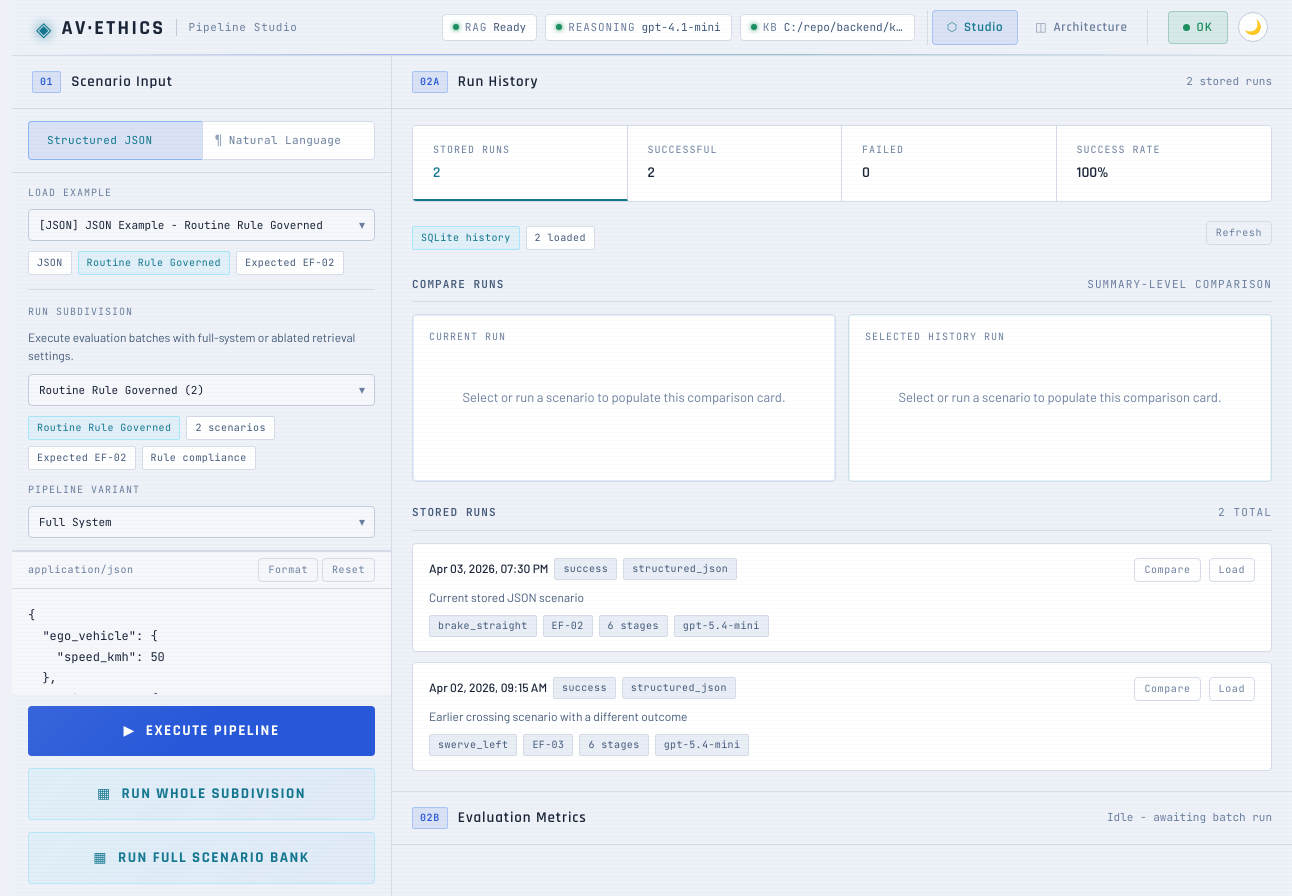
Test: App › shows the backend rationale beside the dominant framework
Click the button with aria-label "Run Scenario". click: click(202, 731)
box: [28,706,375,756]
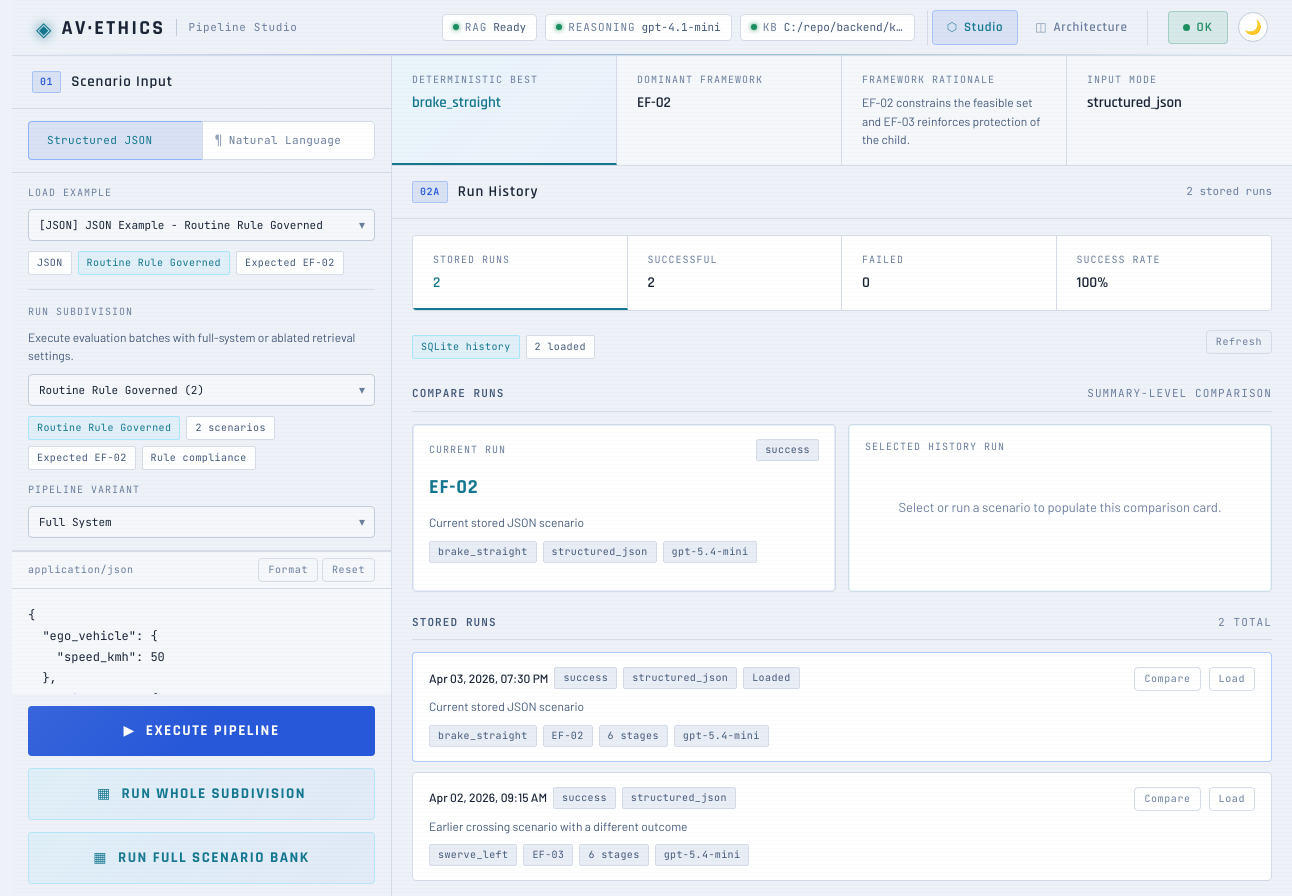
Now the text "Framework Rationale" is shown, box [862,73,995,86]
Now the text "EF-02 constrains the feasible set and EF-03 reinforces protection of the child." is shown, box [862,93,1046,149]
